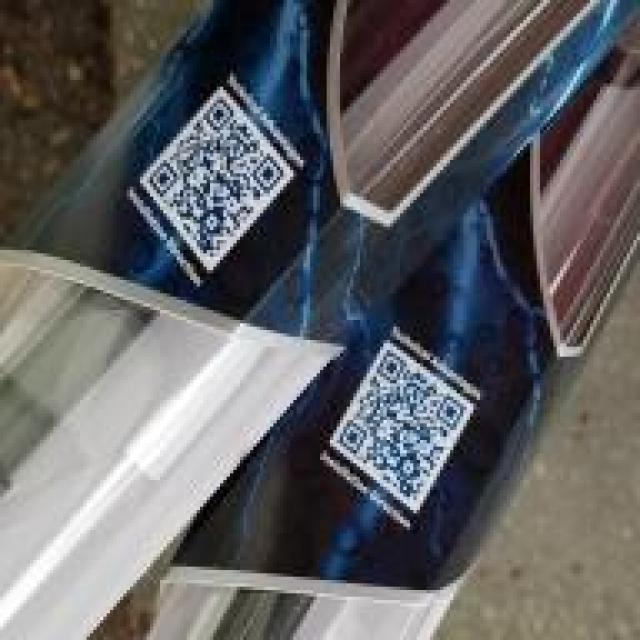QR_CODE: (142, 85, 293, 280), (326, 333, 476, 527)
